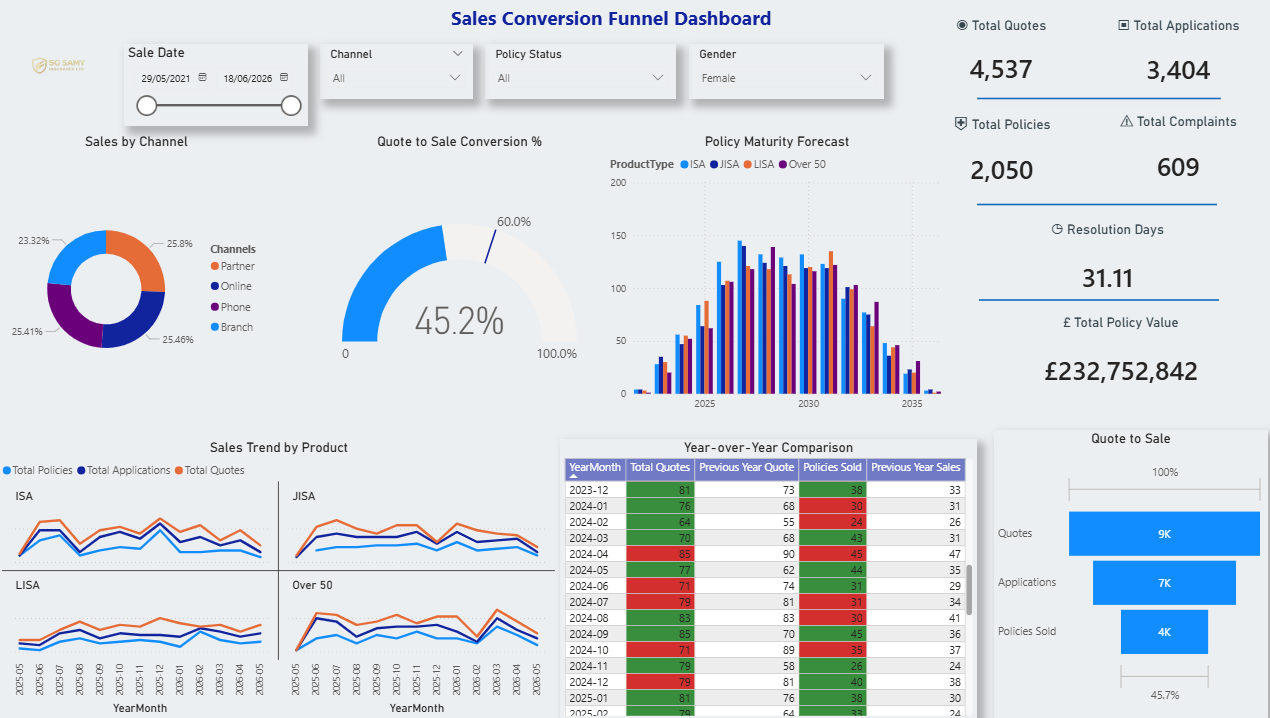

Layout of this report page (visuals, bound fields, positions):
{"tool":"powerbi","page":{"name":"Executive Overview","canvas":[1600,900],"ordinal":0},"visuals":[{"type":"cardVisual","title":"◉ Total Quotes","fields":{"Data":["PoliciesTable.Total Quotes Display"]},"box":[1146.2,21.2,215,127.5],"z":1000},{"type":"cardVisual","title":"▣ Total Applications","fields":{"Data":["PoliciesTable.Total Applications Display"]},"box":[1363.8,21.2,223.8,128.8],"z":2000},{"type":"cardVisual","title":"⚠ Total Complaints","fields":{"Data":["PoliciesTable.Total Complaints Display"]},"box":[1363.8,137.5,223.8,130],"z":3000},{"type":"cardVisual","title":"£ Total Policy Value","fields":{"Data":["PoliciesTable.Total Policy Value Display"]},"box":[1223.8,392.5,360,130],"z":4000},{"type":"cardVisual","title":"⛨ Total Policies","fields":{"Data":["PoliciesTable.Total Policies Sold Display"]},"box":[1146.2,141.2,217.5,126.2],"z":5000},{"type":"image","box":[0,0,157.5,171.2],"z":6000},{"type":"slicer","fields":{"Values":["PoliciesTable.SalesChannel"]},"box":[402.5,55,191.2,68.8],"z":8000},{"type":"lineChart","title":"Sales Trend by Product","fields":{"Rows":["PoliciesTable.ProductType"],"Category":["DateTable.YearMonth"],"Y":["PoliciesTable.Total Policies Sold","PoliciesTable.Total Applications","PoliciesTable.Total Quotes"]},"box":[0,548.8,702.5,351.2],"z":9000},{"type":"tableEx","title":"Year-over-Year Comparison","fields":{"Values":["DateTable.YearMonth","PoliciesTable.Total Quotes","PoliciesTable.Previous Year Quote","PoliciesTable.Total Policies Sold","PoliciesTable.Previous Year Sales"]},"box":[702.5,548.8,521.2,351.2],"z":10000},{"type":"slicer","fields":{"Values":["PoliciesTable.PolicyStatus"]},"box":[608.8,55,238.8,68.8],"z":11000},{"type":"funnel","title":"Quote to Sale","fields":{"Category":["Funnel Table.Stage"],"Y":["Sum(Funnel Table.Value)"]},"box":[1245,537.5,342.5,362.5],"z":12000},{"type":"slicer","fields":{"Values":["CustomersTable.Gender"]},"box":[863.8,55,243.8,68.8],"z":13000},{"type":"textbox","box":[561.2,0,425,55],"z":14000},{"type":"donutChart","title":"Sales by Channel","fields":{"Category":["PoliciesTable.SalesChannel"],"Y":["PoliciesTable.Total Sales"]},"box":[0,166.2,346.2,371.2],"z":14001},{"type":"clusteredColumnChart","title":"Policy Maturity Forecast","fields":{"Category":["PoliciesTable.MaturityDate.Variation.Date Hierarchy.Year","PoliciesTable.MaturityDate.Variation.Date Hierarchy.Quarter"],"Y":["PoliciesTable.Count of PolicyID"],"Series":["PoliciesTable.ProductType"]},"box":[760,166.2,427.5,356.2],"z":14003},{"type":"cardVisual","title":"◷ Resolution Days","fields":{"Data":["Avg(ComplaintsTable.ResolutionDays)"]},"box":[1253.8,276.2,266.2,130],"z":14005},{"type":"slicer","title":"Sale Date","fields":{"Values":["PoliciesTable.SaleDate"]},"box":[157.5,55,230,102.5],"z":14006},{"type":"gauge","title":"Quote to Sale Conversion %","fields":{"Y":["PoliciesTable.Quote to Sale Conversion %"],"TargetValue":["PoliciesTable.Conversion Target"],"MinValue":["PoliciesTable.Gauge Min"]},"box":[425,166.2,303.8,371.2],"z":14007},{"type":"shape","box":[1215,105,322.5,36.2],"z":14008},{"type":"shape","box":[1223.8,235,300,41.2],"z":14009},{"type":"shape","box":[1226.2,357.5,300,35],"z":14010}]}

Visuals, with their boxes in screenshot pixels (x1, y1, x2, y2), scaled from the page's 1600x900 canvas onto the 1270x718 screenshot:
"◉ Total Quotes" cardVisual: x1=910, y1=17, x2=1080, y2=119
"▣ Total Applications" cardVisual: x1=1083, y1=17, x2=1260, y2=120
"⚠ Total Complaints" cardVisual: x1=1083, y1=110, x2=1260, y2=213
"£ Total Policy Value" cardVisual: x1=971, y1=313, x2=1257, y2=417
"⛨ Total Policies" cardVisual: x1=910, y1=113, x2=1082, y2=213
image: x1=0, y1=0, x2=125, y2=137
slicer - PoliciesTable.SalesChannel: x1=319, y1=44, x2=471, y2=99
"Sales Trend by Product" lineChart: x1=0, y1=438, x2=558, y2=717
"Year-over-Year Comparison" tableEx: x1=558, y1=438, x2=971, y2=717
slicer - PoliciesTable.PolicyStatus: x1=483, y1=44, x2=673, y2=99
"Quote to Sale" funnel: x1=988, y1=429, x2=1260, y2=717
slicer - CustomersTable.Gender: x1=686, y1=44, x2=879, y2=99
textbox: x1=445, y1=0, x2=783, y2=44
"Sales by Channel" donutChart: x1=0, y1=133, x2=275, y2=429
"Policy Maturity Forecast" clusteredColumnChart: x1=603, y1=133, x2=943, y2=417
"◷ Resolution Days" cardVisual: x1=995, y1=220, x2=1206, y2=324
"Sale Date" slicer: x1=125, y1=44, x2=308, y2=126
"Quote to Sale Conversion %" gauge: x1=337, y1=133, x2=578, y2=429
shape: x1=964, y1=84, x2=1220, y2=113
shape: x1=971, y1=187, x2=1210, y2=220
shape: x1=973, y1=285, x2=1211, y2=313
